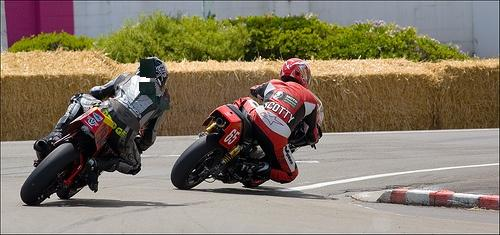tampered: (140, 59, 170, 110)
